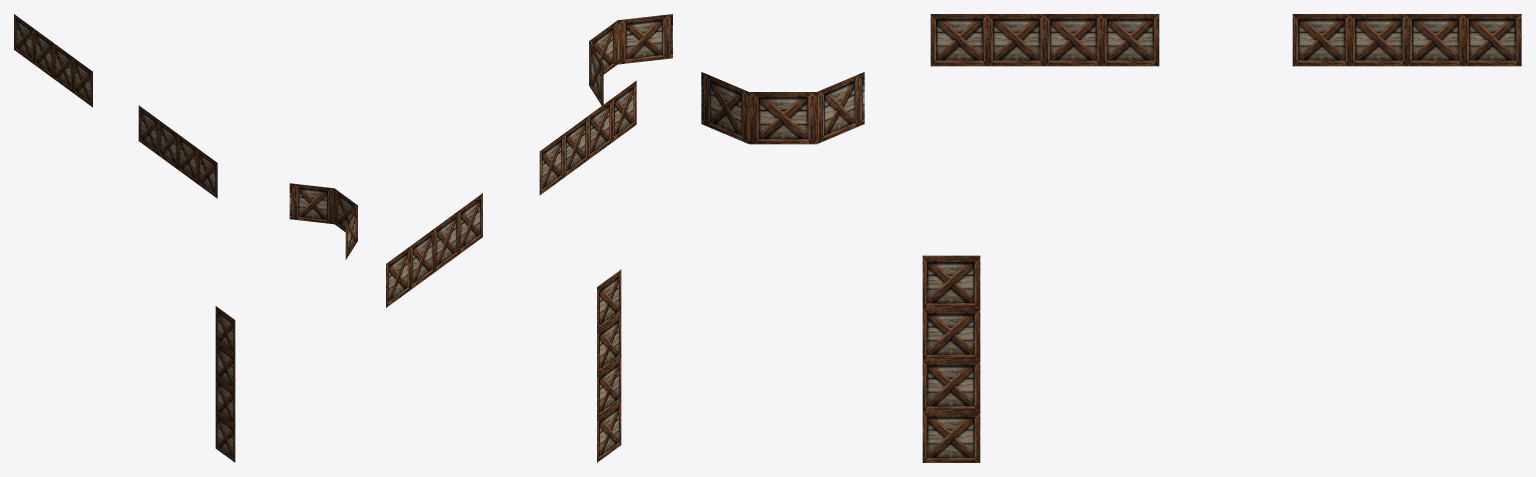
Rendered from LAKETOWN_EXTERIOR_PS_LT_PANELS2866.fbx.
3 renders of one model, left to right at view 1: azimuth 30°, elevation 25°; view 2: azimuth 150°, elevation 25°; view 3: azimuth 270°, elevation 25°, orthographic. The views are drawn at different scales.
Parts seen in each view (by area): view 1: LAKETOWN_EXTERIOR_PS_LT_PANELS2866; view 2: LAKETOWN_EXTERIOR_PS_LT_PANELS2866; view 3: LAKETOWN_EXTERIOR_PS_LT_PANELS2866.
Boxes of the visible parts, left/top/right/bottom form: LAKETOWN_EXTERIOR_PS_LT_PANELS2866: left=14, top=14, right=357, bottom=462; LAKETOWN_EXTERIOR_PS_LT_PANELS2866: left=386, top=14, right=672, bottom=462; LAKETOWN_EXTERIOR_PS_LT_PANELS2866: left=701, top=14, right=1521, bottom=462.
Bounding box in the file's own units: 23196 × 85955 × 145769.
1 material, 1 textured.
